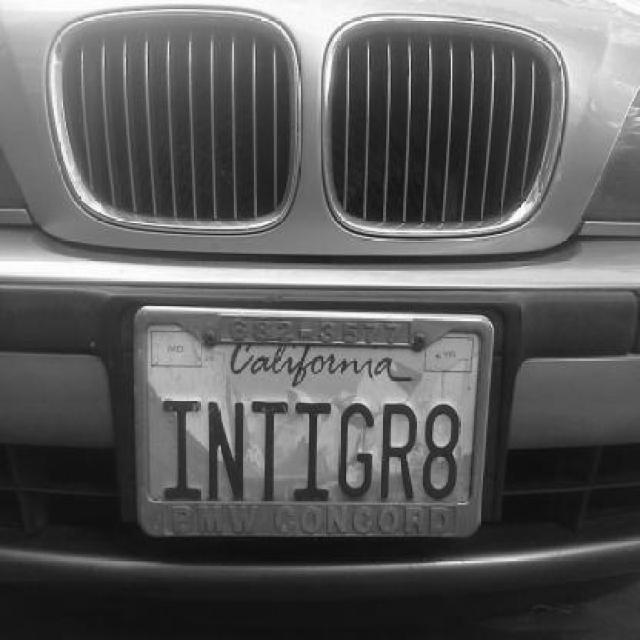license-plate: (154, 318, 488, 532)
